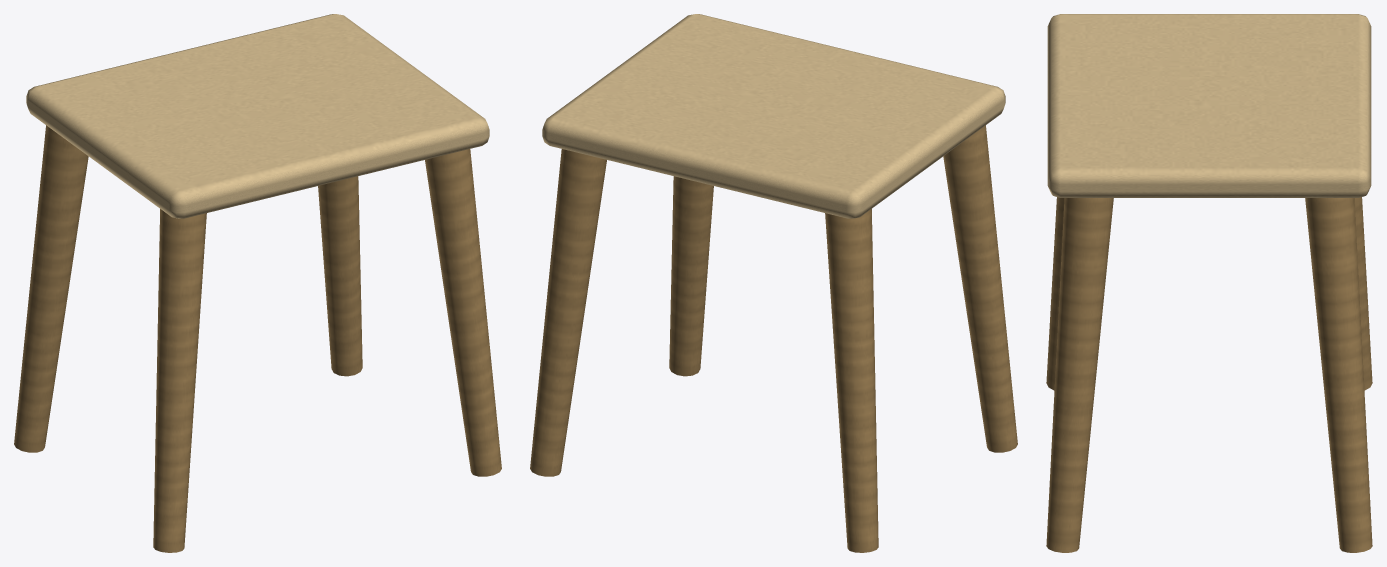
Rendered from balcony-table-351592764320.glb.
The picture shows the model from 3 angles, left to right: view 1: azimuth 30°, elevation 25°; view 2: azimuth 150°, elevation 25°; view 3: azimuth 270°, elevation 25°; orthographic projection. The views are drawn at different scales.
Visible parts, largest first — view 1: surface_plaster, surface_bamboo; view 2: surface_plaster, surface_bamboo; view 3: surface_plaster, surface_bamboo.
Boxes of the visible parts, x1,y1,x2,y2 form: surface_plaster: (26,14,489,218); surface_bamboo: (14,125,501,552); surface_plaster: (542,14,1005,218); surface_bamboo: (530,125,1017,552); surface_plaster: (1047,14,1371,197); surface_bamboo: (1046,197,1372,552).
Size of the model in its own units: 0.557 by 0.5524 by 0.4338.
Materials: 2 (2 with a texture image).
